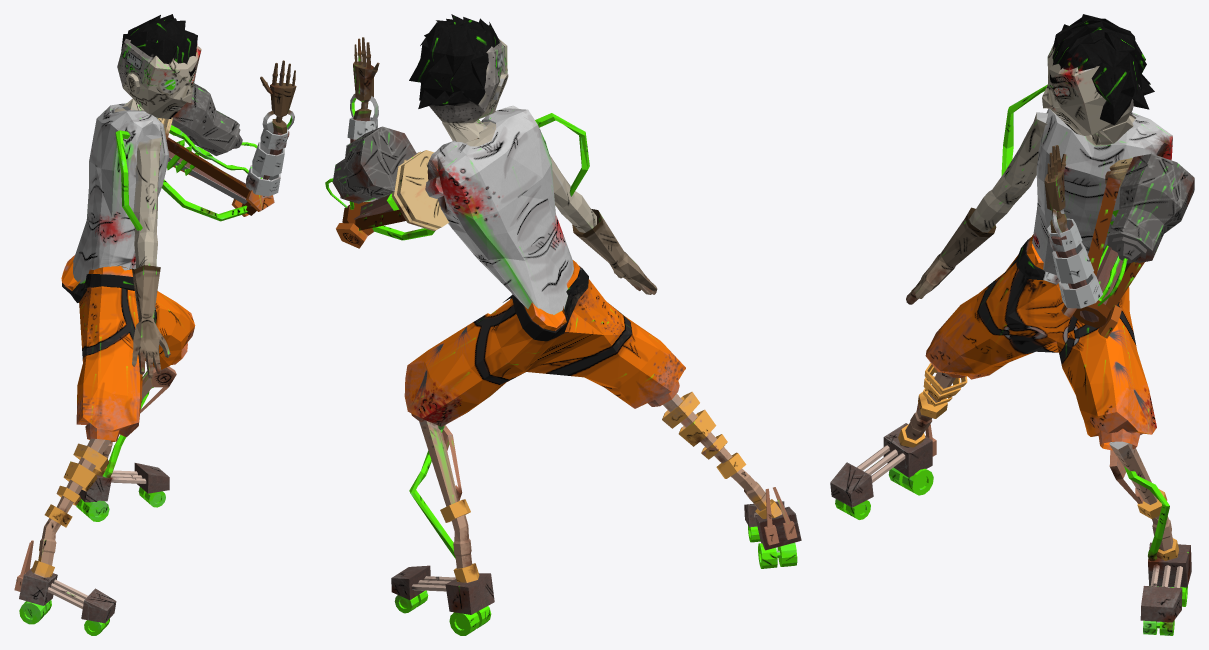
Rendered from CyborgFINALAnimation_000042.obj.
3 views of the same model, side by side, from view 1: azimuth 30°, elevation 25°; view 2: azimuth 150°, elevation 25°; view 3: azimuth 270°, elevation 25° (orthographic). The views are drawn at different scales.
Visible parts, largest first — view 1: CyborgMesh_Cube.002; view 2: CyborgMesh_Cube.002; view 3: CyborgMesh_Cube.002.
Part boxes in pixels (x1,y1,x2,y2): CyborgMesh_Cube.002: (14,14,296,635); CyborgMesh_Cube.002: (325,14,801,635); CyborgMesh_Cube.002: (830,14,1194,635).
Bounding box in the file's own units: 6.01 × 8.66 × 4.71.
